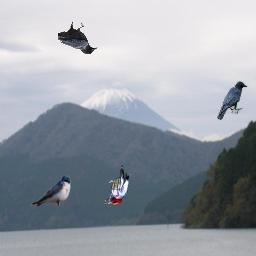Crow: (58, 21, 98, 54), (217, 81, 248, 121)
Swallow: (31, 175, 71, 206)
Woodpecker: (102, 165, 129, 205)
